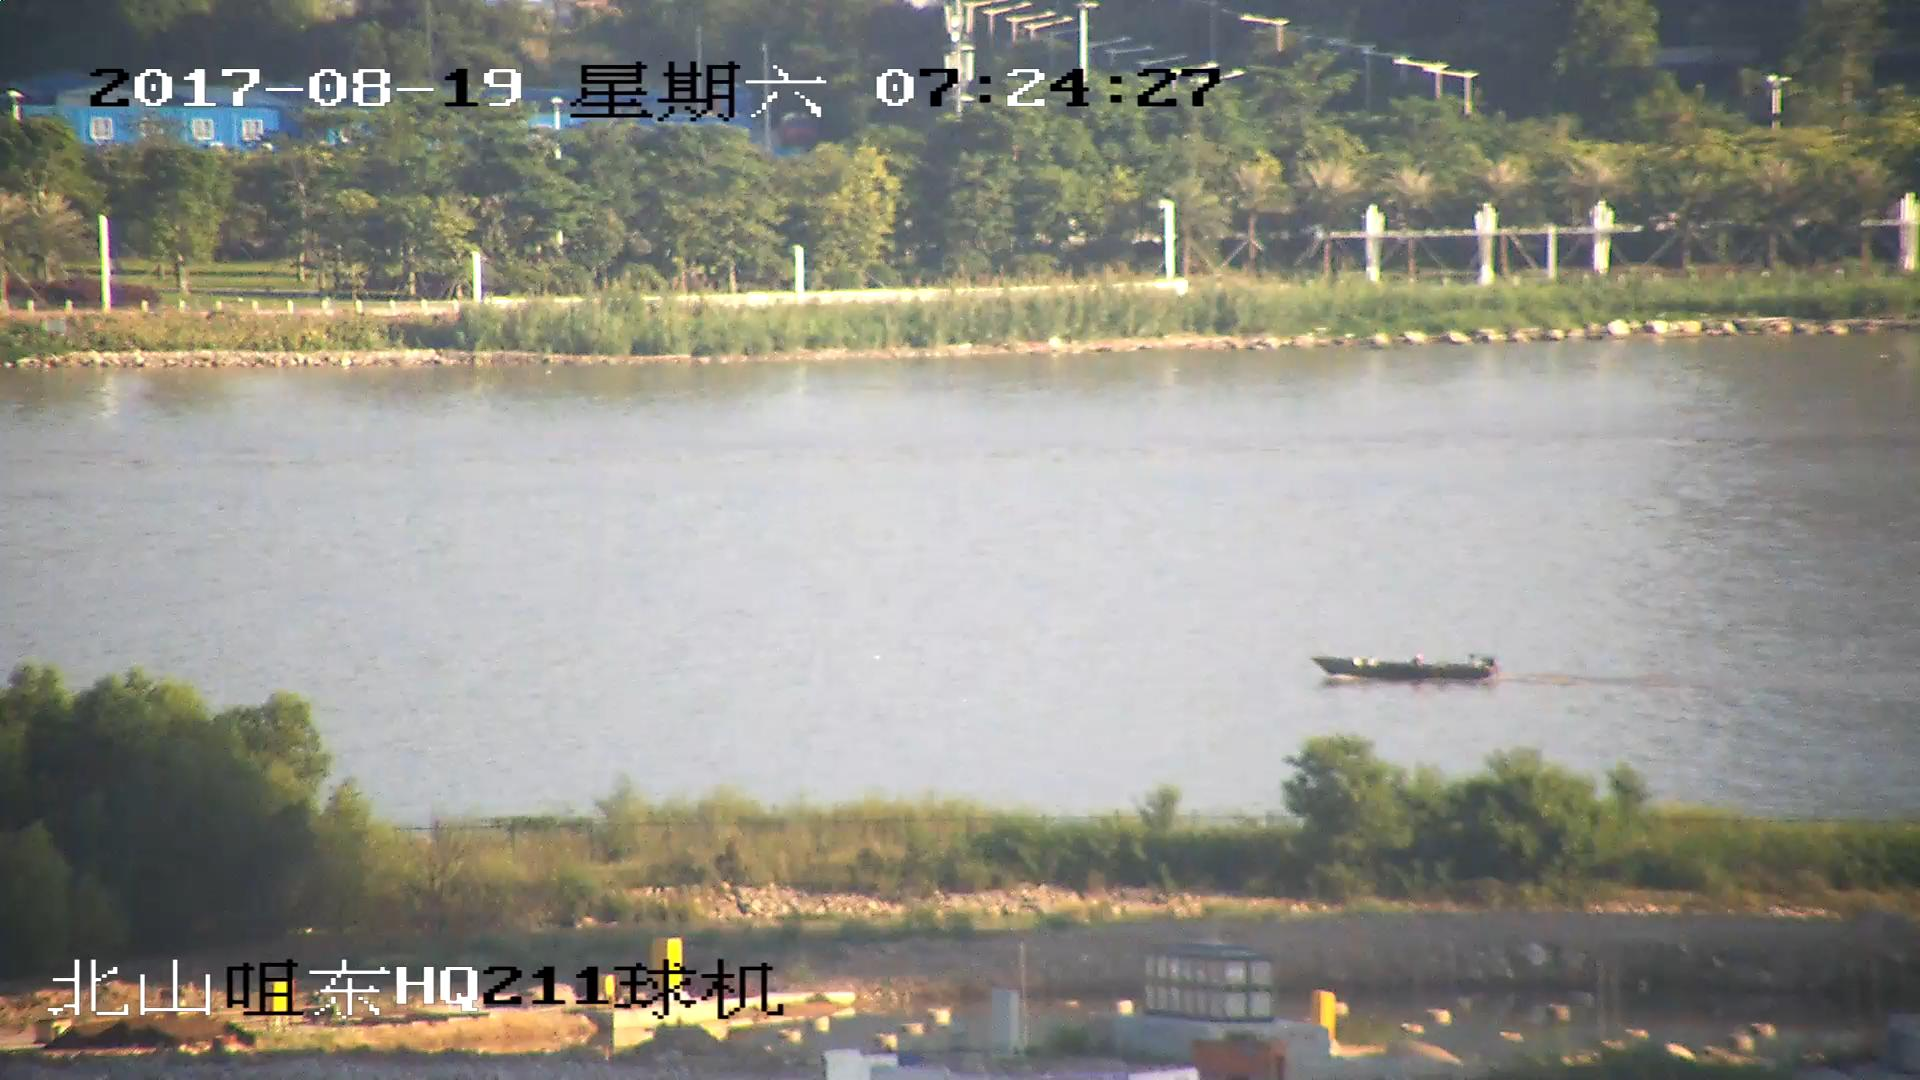fishing boat: (1315, 649, 1494, 689)
